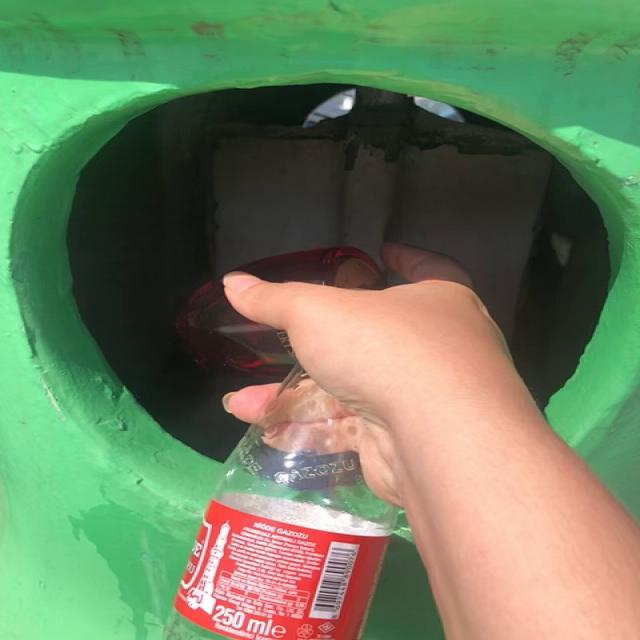glass: (167, 279, 397, 640), (237, 246, 384, 288)
